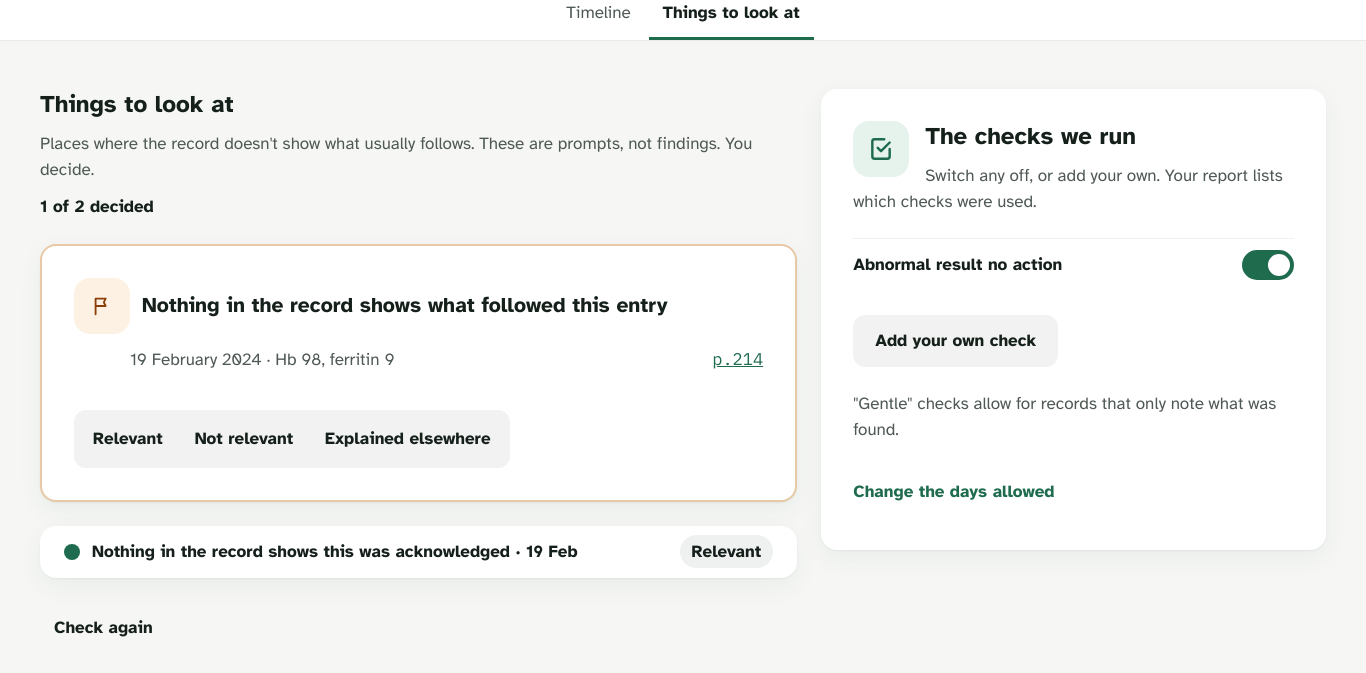
it: checking again starts the checks and says what happens next
Click the button "Check again" at (103, 628), box x1=40 y1=602 x2=167 y2=654
(page scrolled)
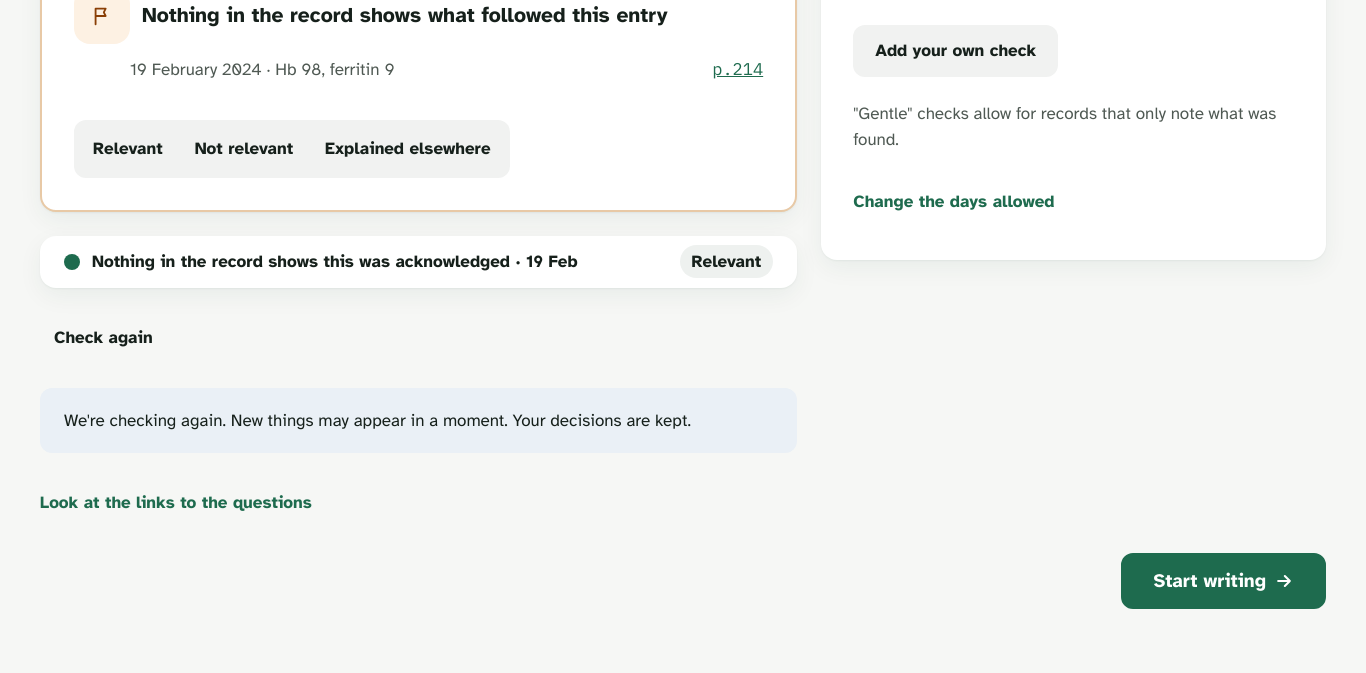
Expected: the text "We're checking again. New things may appear in a moment. Your decisions are kept." is shown, x1=64 y1=410 x2=691 y2=430
